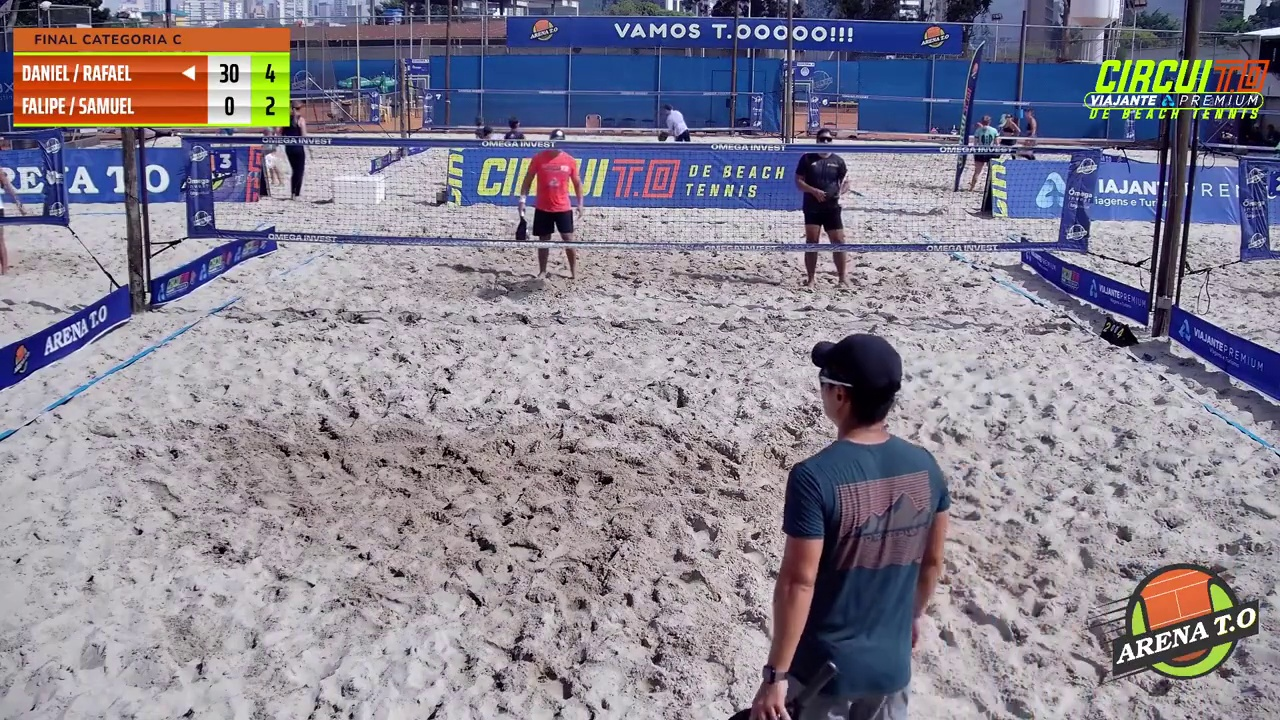court_line: (645, 0, 799, 359), (550, 0, 672, 449)
